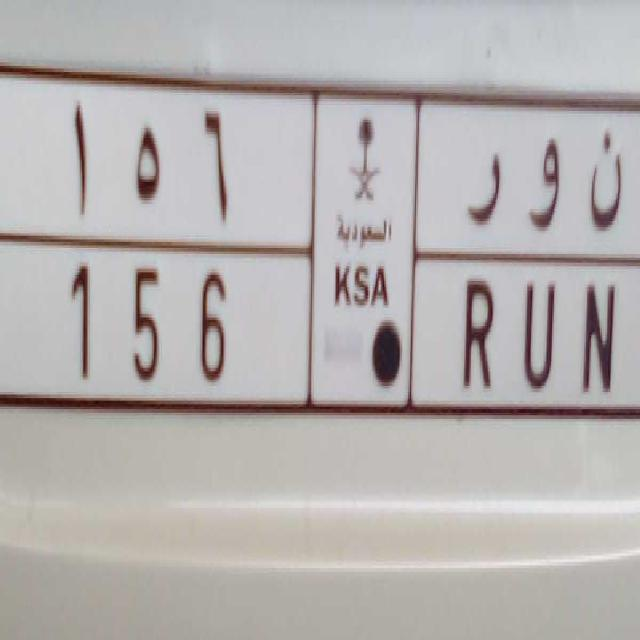license_plate: (61, 238, 624, 422)
